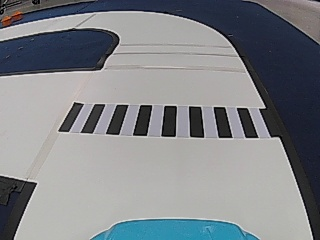CrossWalk: (57, 100, 267, 139)
